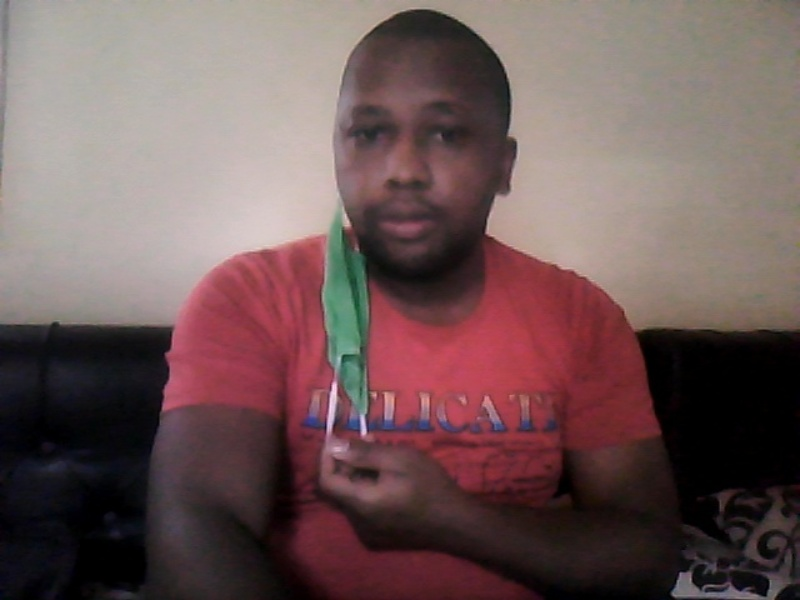TsisyArotava: (328, 16, 511, 289)
